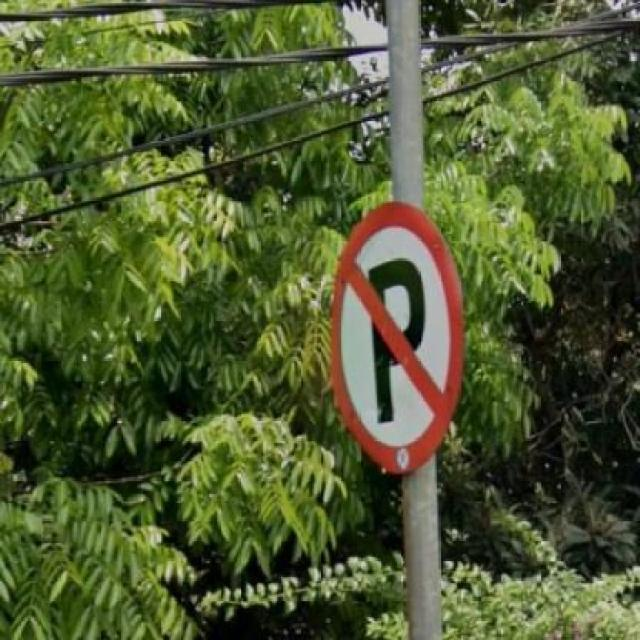no parking: (325, 198, 465, 474)
